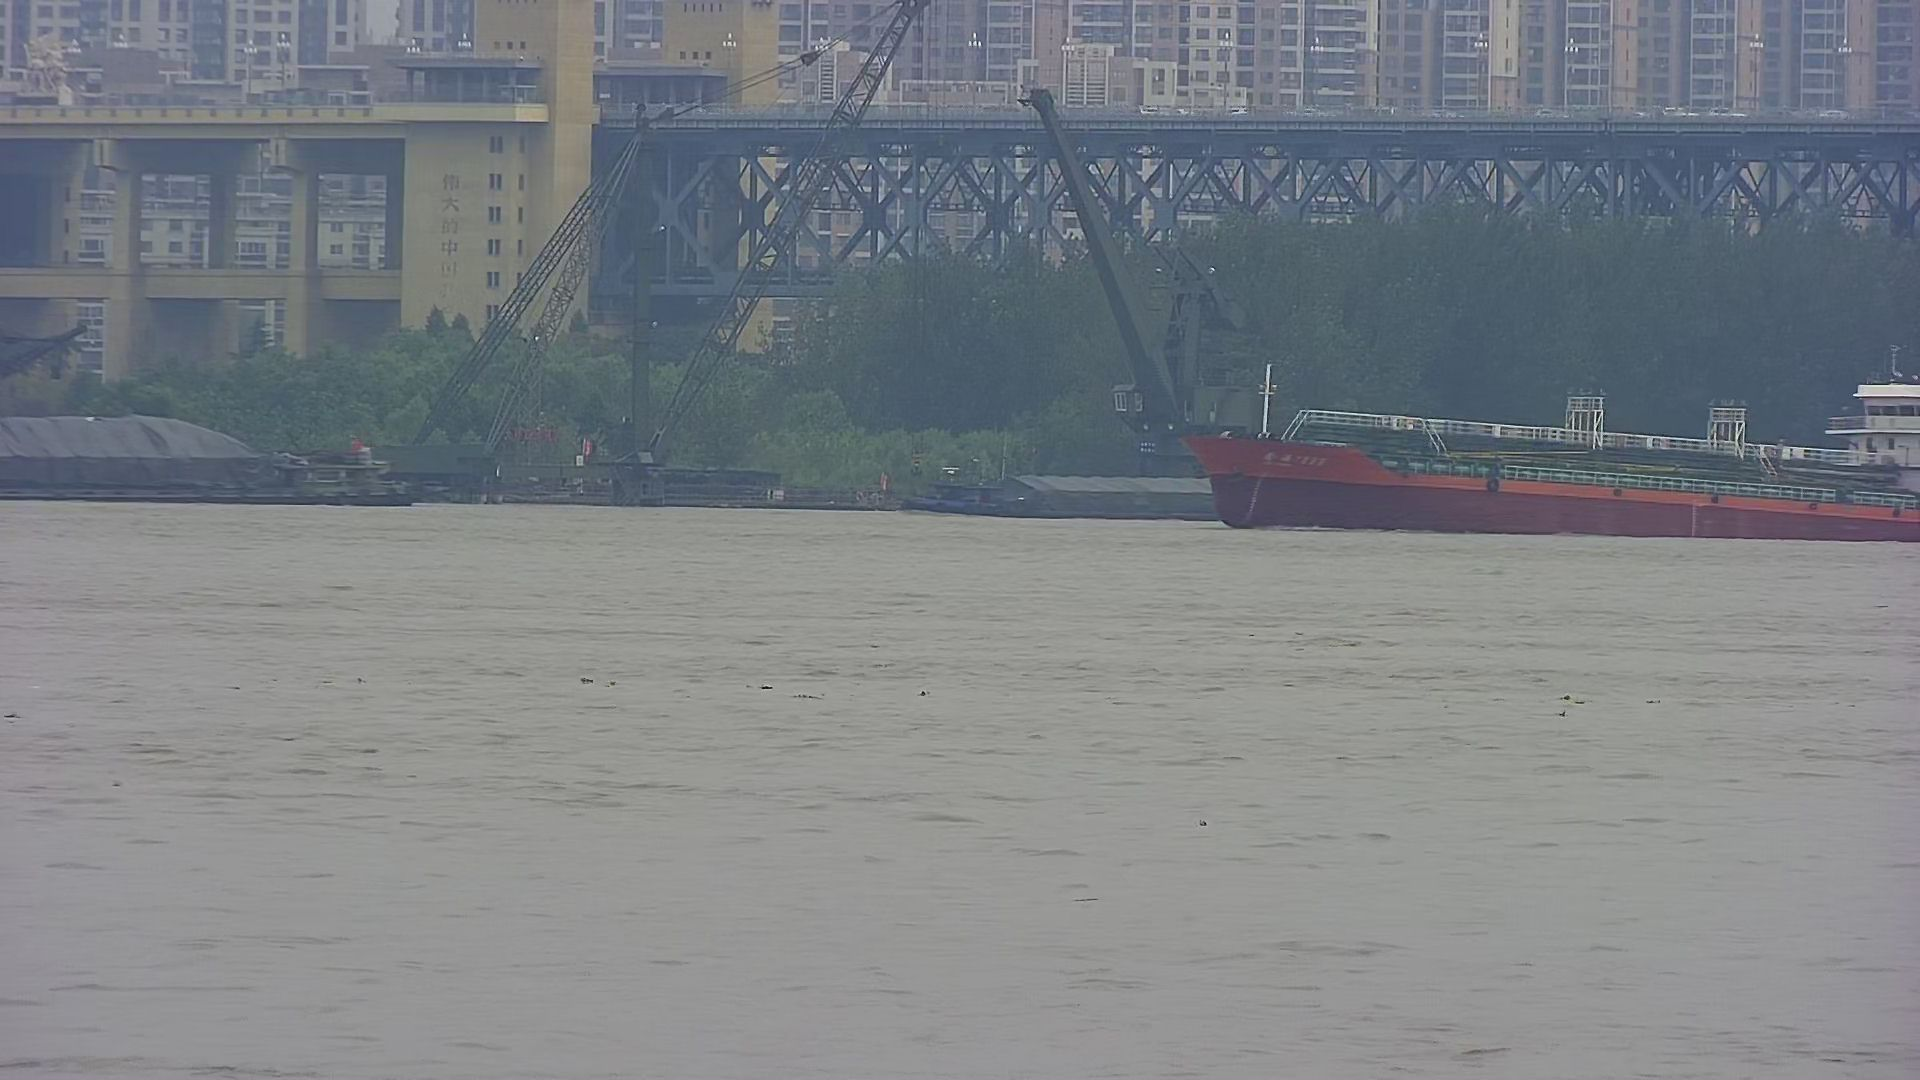harbor: (7, 407, 414, 509)
ship: (1200, 349, 1909, 551)
